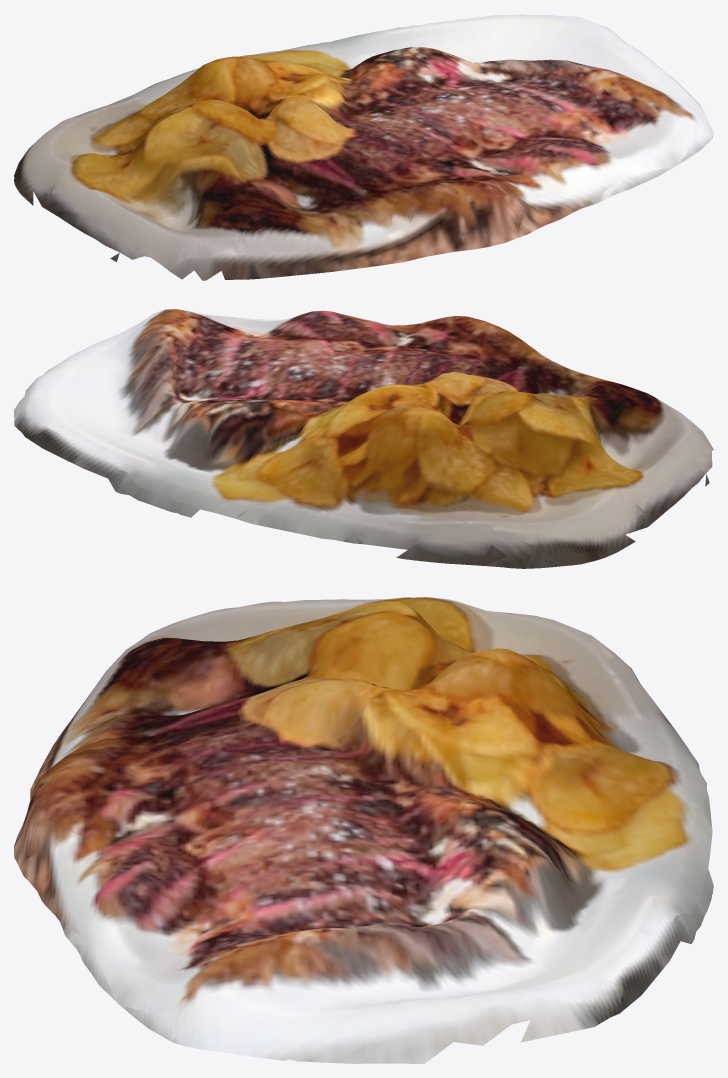
Rendered from Steak.glb.
3 renders of one model, top to bottom at view 1: azimuth 30°, elevation 25°; view 2: azimuth 150°, elevation 25°; view 3: azimuth 270°, elevation 25°, orthographic. The views are drawn at different scales.
Parts seen in each view (by area): view 1: Steak; view 2: Steak; view 3: Steak.
Boxes of the visible parts, bbox=[...] form: Steak: bbox=[14, 14, 713, 280]; Steak: bbox=[14, 309, 713, 568]; Steak: bbox=[14, 597, 713, 1063].
Bounding box in the file's own units: 0.4909 × 0.0673 × 0.3374.
Materials: 1 (1 with a texture image).
